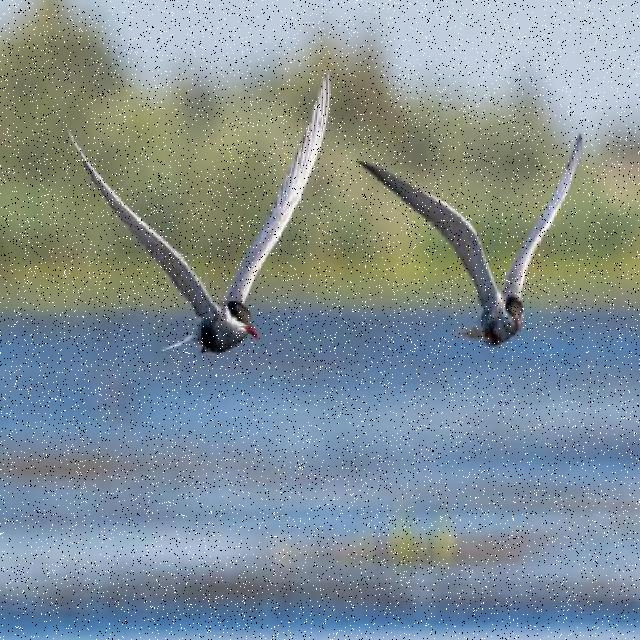bird: (68, 70, 330, 352), (356, 136, 584, 347)
